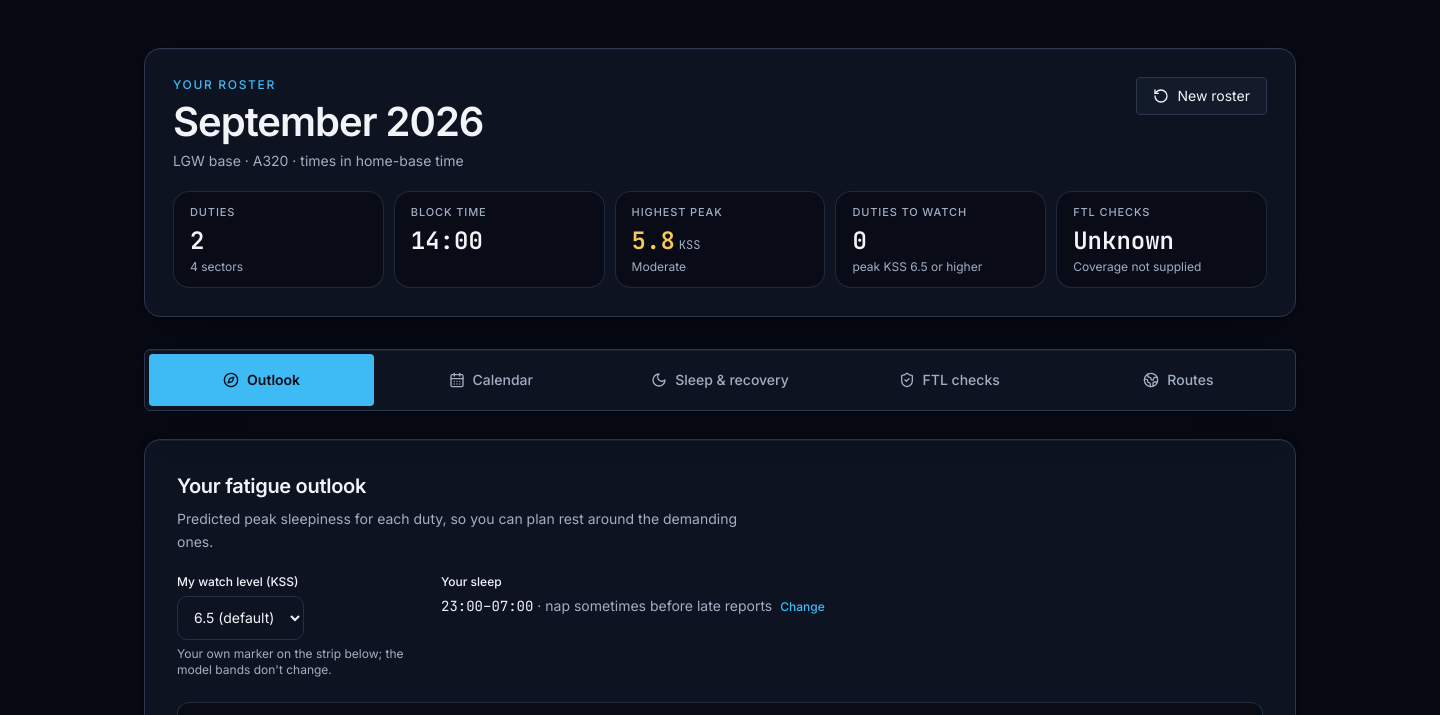
Test: RosterPage › shows a calm empty state when nothing needs attention
Expected: the heading "September 2026" is shown, [173,97,483,147]
Expected: the text "Coverage not supplied" is shown, [1073,258,1201,274]
Press the mouse on the tab "FTL checks" at point(949, 380), box [837,354,1062,406]
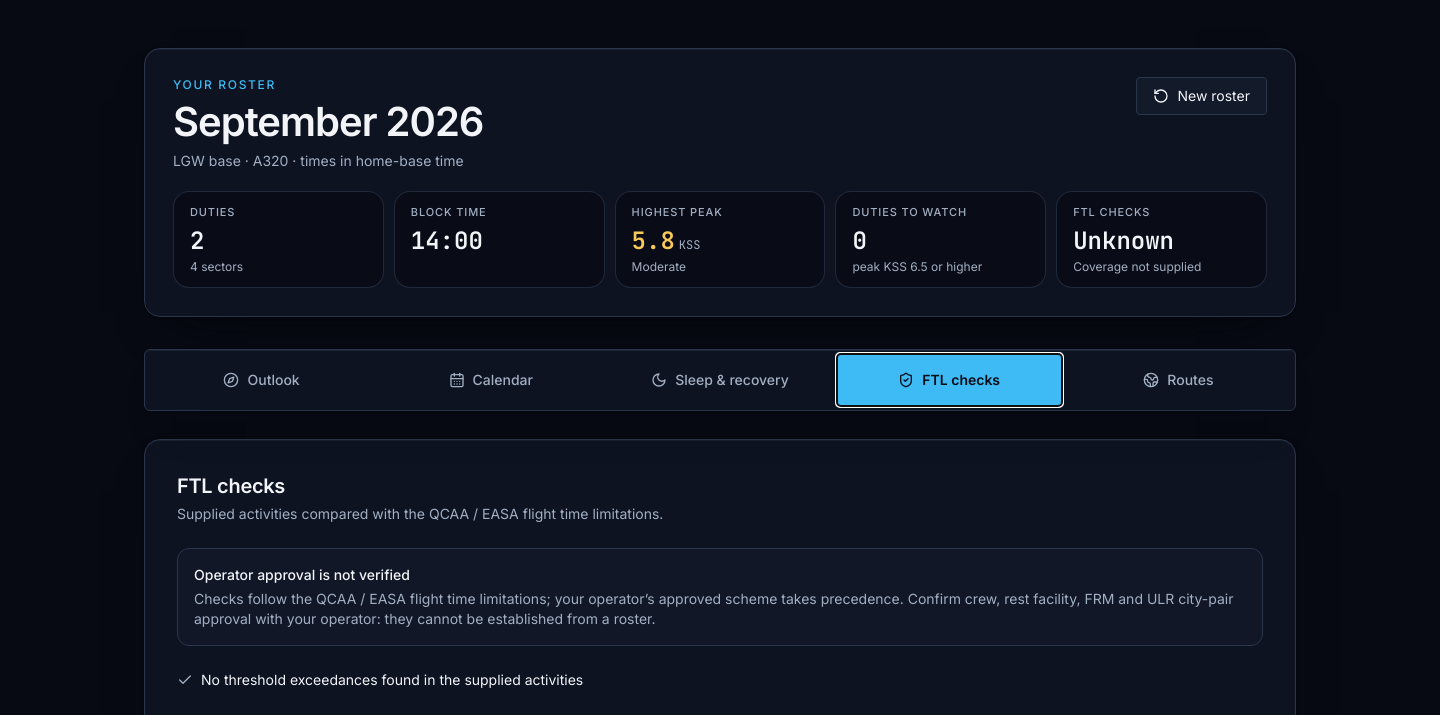
Result: the text "No threshold exceedances found in the supplied activities" is shown at [177,671,583,688]
